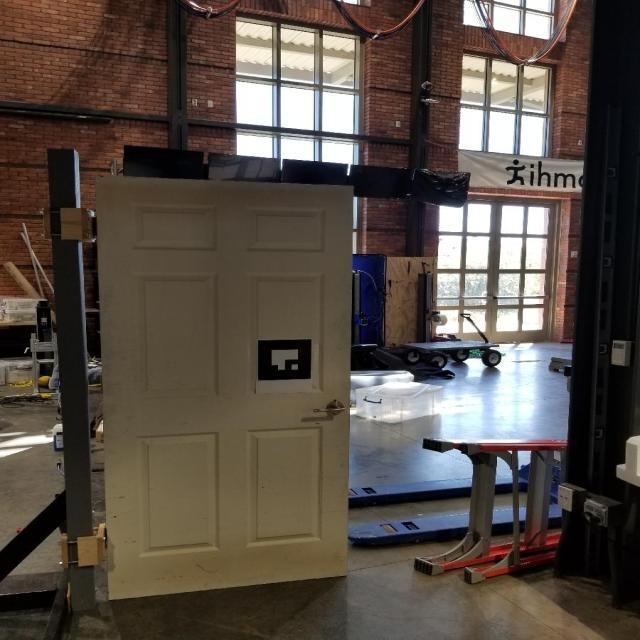door: (89, 172, 355, 600), (313, 395, 347, 418)
